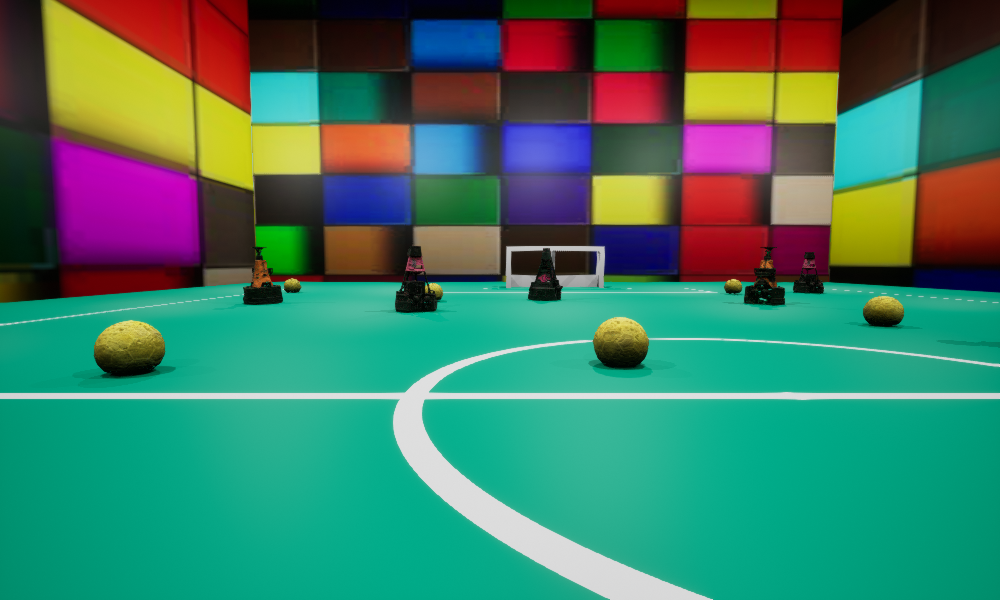b: (94, 320, 164, 374), (593, 317, 648, 367), (863, 296, 903, 325), (425, 283, 442, 299), (724, 279, 741, 293), (284, 278, 300, 292)
o: (744, 247, 784, 304), (243, 247, 282, 304)
p1: (528, 248, 562, 300)
p2: (395, 245, 436, 312), (793, 252, 823, 293)
